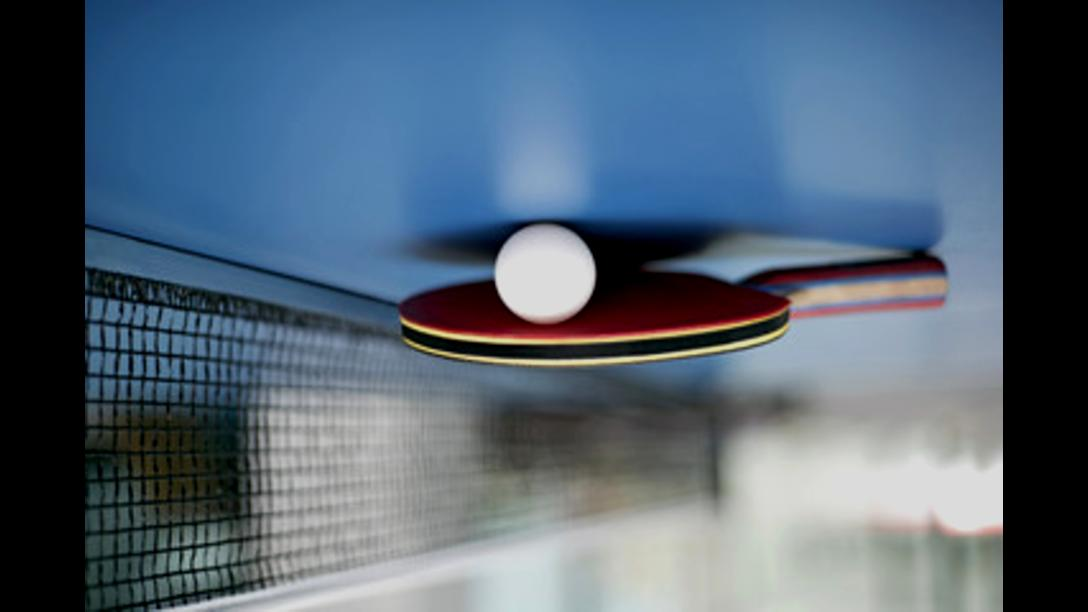Table-Tennis-Ball: (494, 224, 597, 326)
